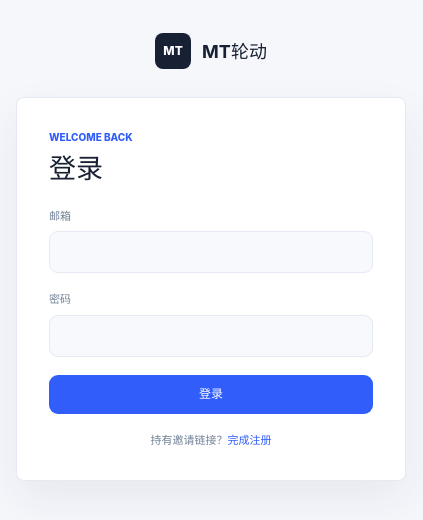
Scenario: authentication pages › shows a Problem Details login error
Type "user@example.com" into the field labelled "邮箱" at (211, 252), box [49,231,373,273]
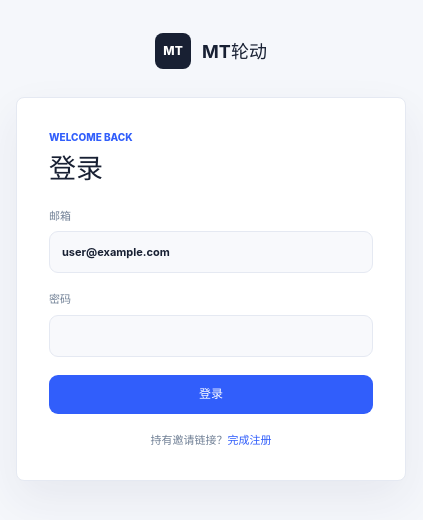
Type "incorrect-password" into the password field labelled "密码" at (211, 336), box [49,314,373,356]
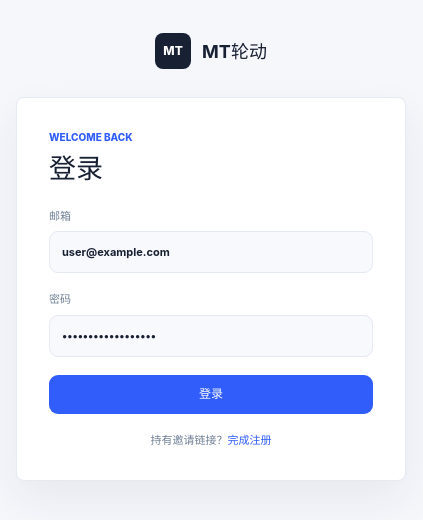
Click the button "登录" at (211, 394), box [49,374,373,414]
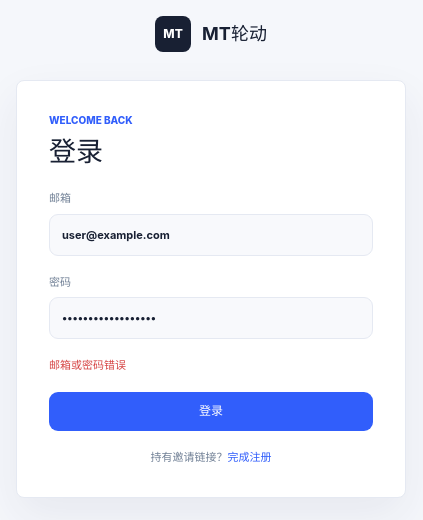
Now the text "邮箱或密码错误" is shown, box [49,358,126,372]
